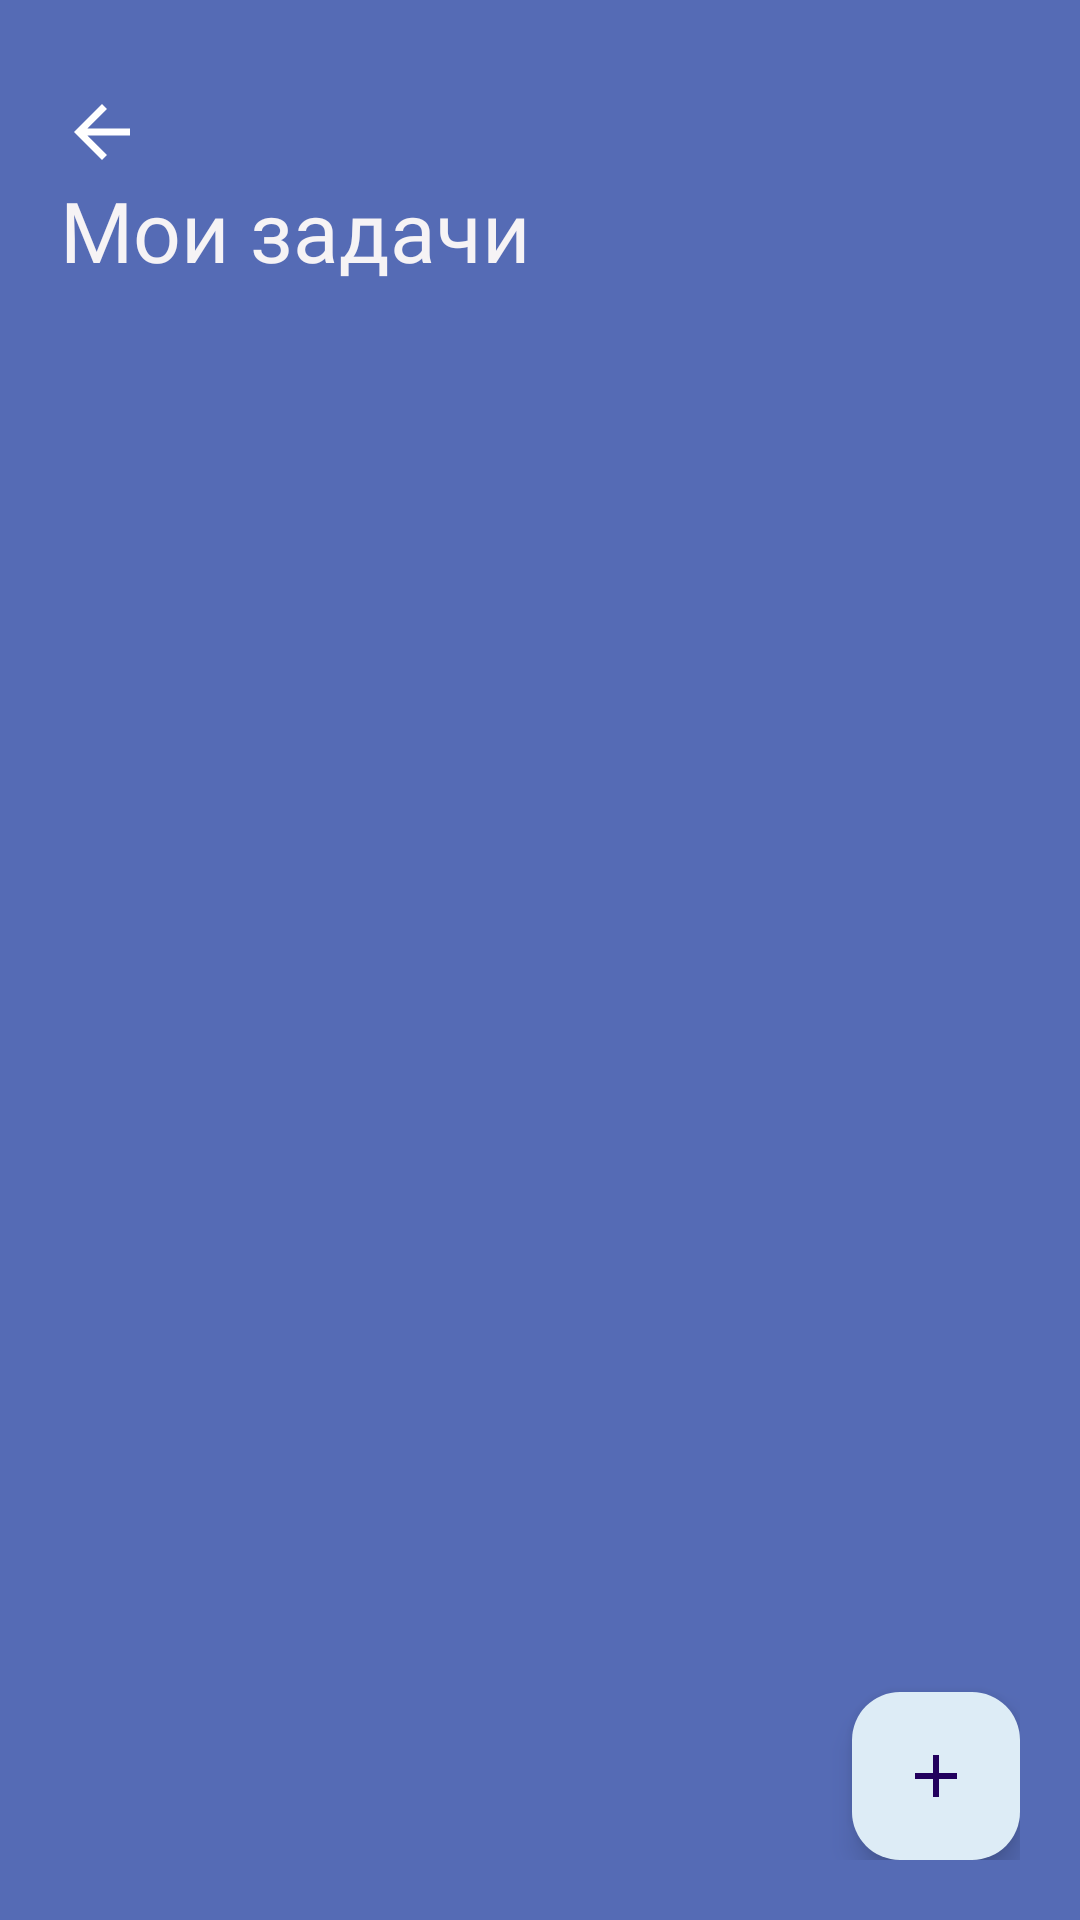

Locate icon controls on the screen. Image size 1080 × 1920, boxes as (x1, y1, x2, y2).
arrow back: (74, 104, 130, 160)
plus: (852, 1692, 1020, 1860)
